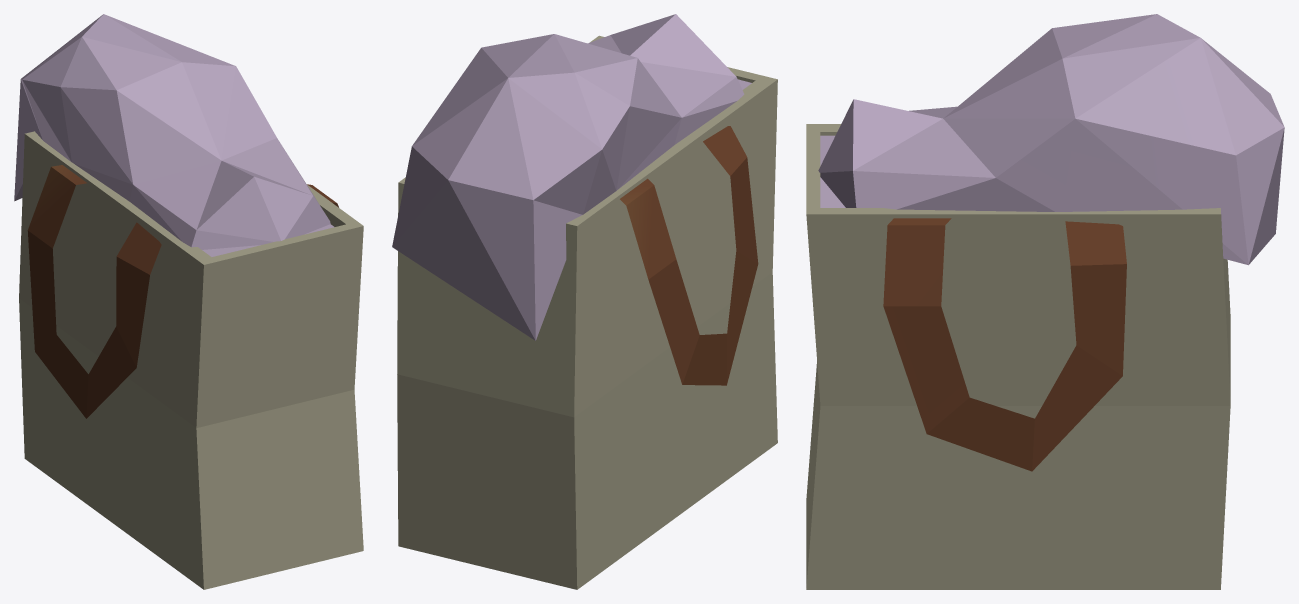
Rendered from Full Bag.fbx.
3 renders of one model, left to right at view 1: azimuth 30°, elevation 25°; view 2: azimuth 150°, elevation 25°; view 3: azimuth 270°, elevation 25°, orthographic. The views are drawn at different scales.
Visible parts, largest first — view 1: Cube; view 2: Cube; view 3: Cube.
Part boxes in pixels (box(x1,y1,x2,y2)): Cube: box(14, 14, 363, 589); Cube: box(392, 14, 777, 589); Cube: box(806, 14, 1284, 589).
Bounding box in the file's own units: 157 × 268 × 231.
